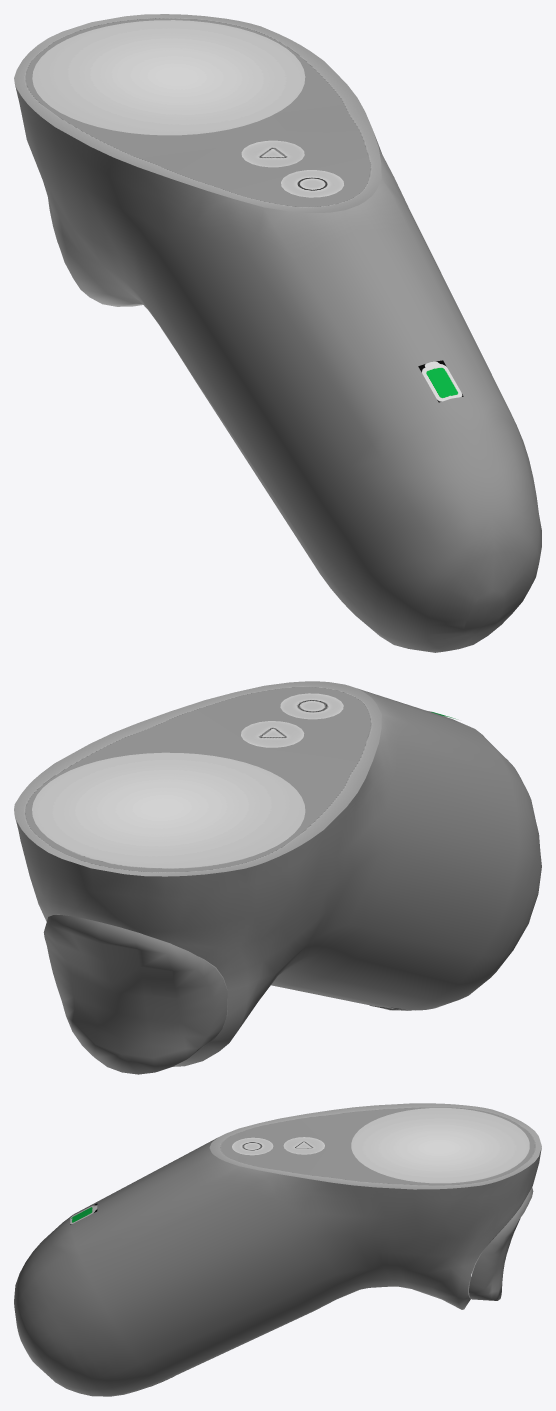
3 views of the same model, one above another, from view 1: azimuth 30°, elevation 25°; view 2: azimuth 150°, elevation 25°; view 3: azimuth 270°, elevation 25° (orthographic). The views are drawn at different scales.
Visible parts, largest first — view 1: Body, Touchpad, Home Button, App Button, Battery; view 2: Body, Touchpad, Trigger, App Button, Home Button; view 3: Body, Touchpad, Trigger, App Button, Home Button.
Part boxes in pixels (left/top/right/bottom): Body: left=14, top=14, right=541, bottom=652; Touchpad: left=32, top=20, right=305, bottom=135; Home Button: left=281, top=170, right=343, bottom=197; App Button: left=241, top=140, right=304, bottom=167; Battery: left=418, top=360, right=463, bottom=402; Body: left=14, top=681, right=541, bottom=1066; Touchpad: left=32, top=752, right=305, bottom=868; Trigger: left=43, top=915, right=227, bottom=1074; App Button: left=241, top=721, right=304, bottom=747; Home Button: left=280, top=693, right=343, bottom=719; Body: left=14, top=1103, right=541, bottom=1396; Touchpad: left=351, top=1108, right=529, bottom=1183; Trigger: left=469, top=1187, right=533, bottom=1300; App Button: left=283, top=1137, right=324, bottom=1154; Home Button: left=232, top=1137, right=273, bottom=1155.
Size of the model in its own units: 4.55 by 6.02 by 11.78.
